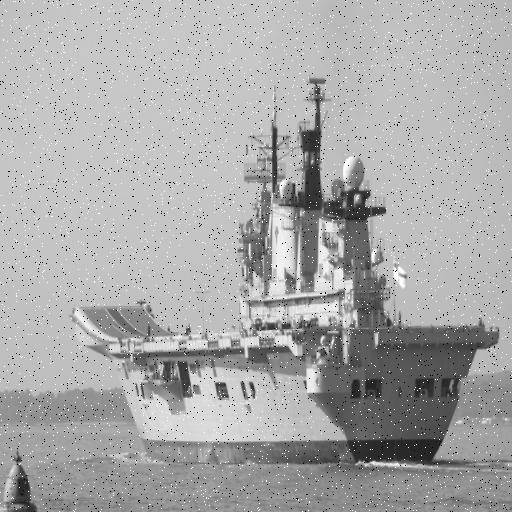Portanaves: (65, 66, 509, 474)
